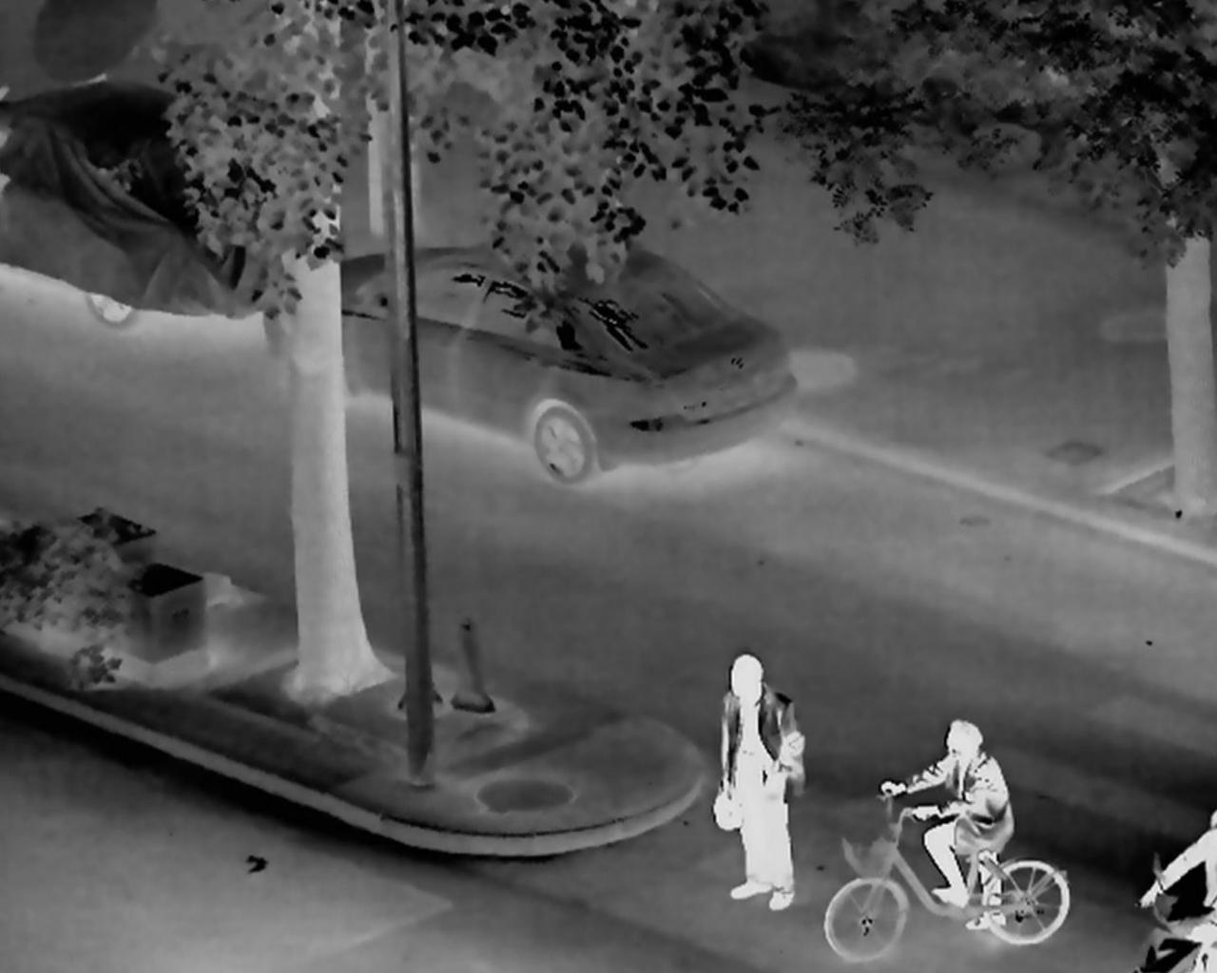person: (877, 721, 1009, 933), (714, 652, 802, 909), (1138, 811, 1217, 955)
